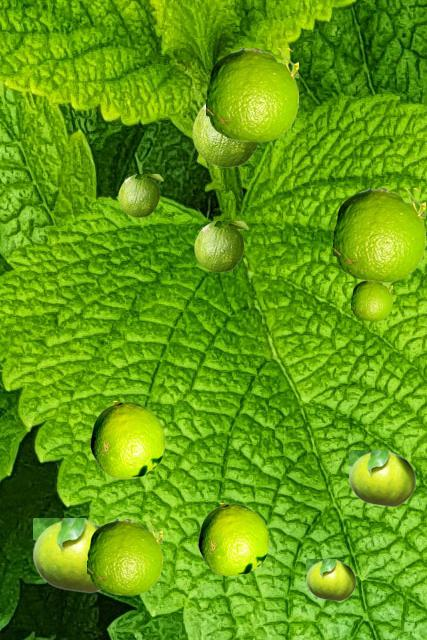dalandan: (333, 188, 424, 281), (206, 48, 297, 141), (90, 401, 164, 478), (87, 519, 161, 594), (198, 503, 268, 575), (33, 518, 100, 592), (192, 102, 259, 166), (349, 450, 415, 506), (194, 221, 247, 271), (306, 559, 355, 600), (118, 174, 162, 216), (351, 281, 391, 320)
